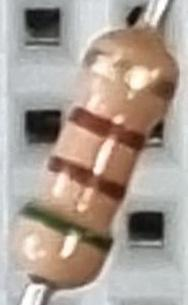Brown: (62, 100, 143, 153), (47, 153, 126, 203)
Green: (17, 197, 111, 254)
Side-Silver: (83, 46, 176, 105)
